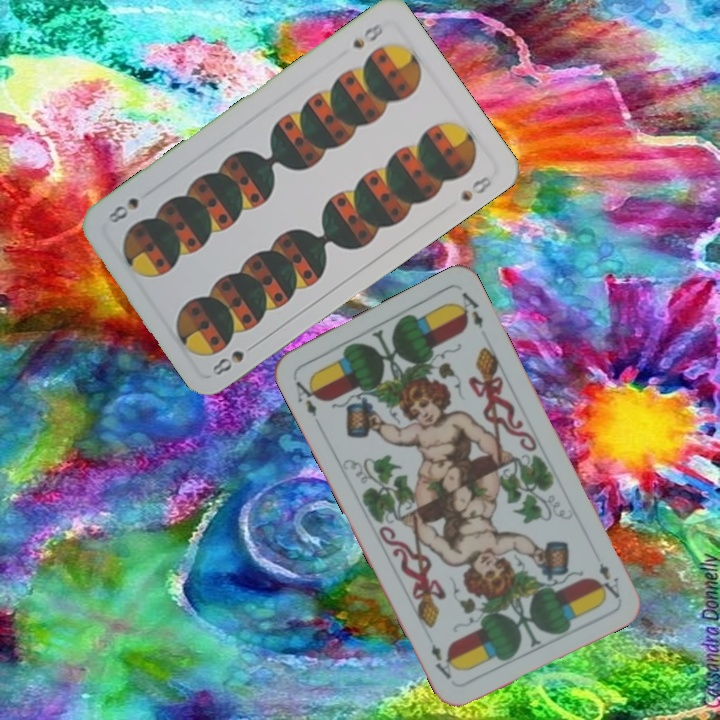EA: (291, 374, 323, 419), (592, 559, 623, 602)
S8: (208, 338, 259, 379), (348, 18, 386, 52)
